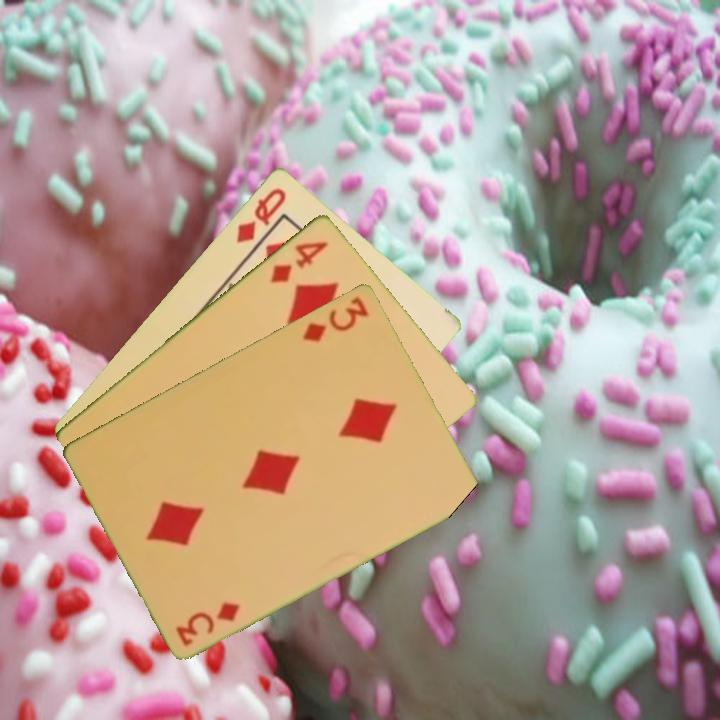3d: (299, 292, 372, 345), (172, 597, 243, 649)
4d: (267, 237, 331, 286)
Qd: (232, 184, 290, 246)
